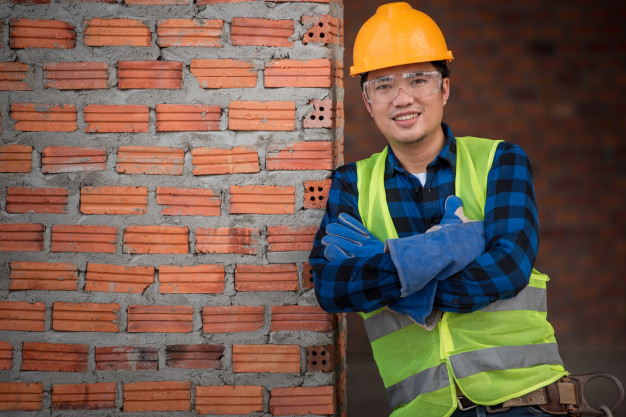With Helmet: (345, 1, 459, 149)
